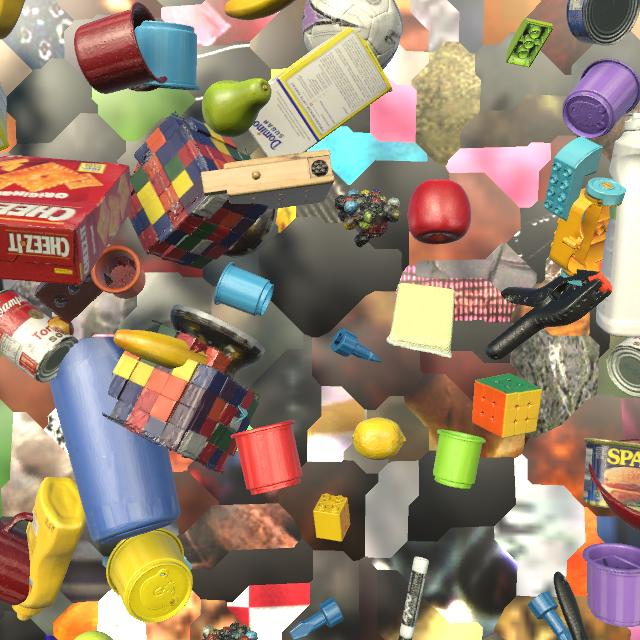ycb_003_cracker_box: (0, 155, 132, 285)
ycb_004_sugar_box: (248, 27, 393, 157), (0, 83, 10, 151)
ycb_005_tomato_soup_can: (0, 289, 79, 382), (606, 337, 640, 398)
ycb_006_mustard_bottle: (12, 477, 86, 621), (0, 0, 25, 40)
ycb_007_tuna_fish_can: (566, 0, 640, 46)
ycb_010_potted_meat_can: (583, 438, 640, 512)
ycb_011_banana: (113, 330, 207, 369), (224, 0, 296, 20)
ycb_013_apple: (408, 179, 471, 244)
ycb_014_lemon: (352, 417, 406, 460)
ycb_016_pear: (202, 78, 272, 137)
